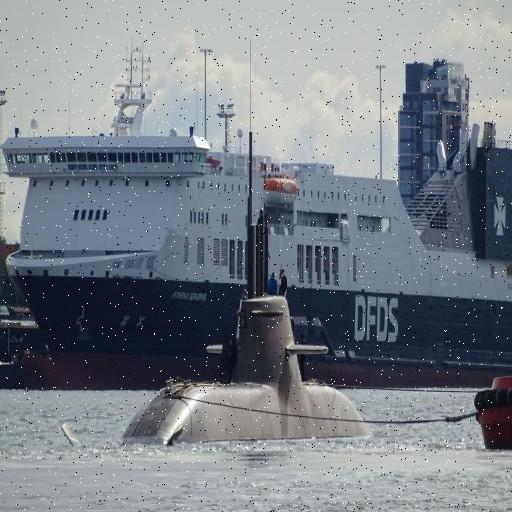submarine: (61, 122, 390, 449)
